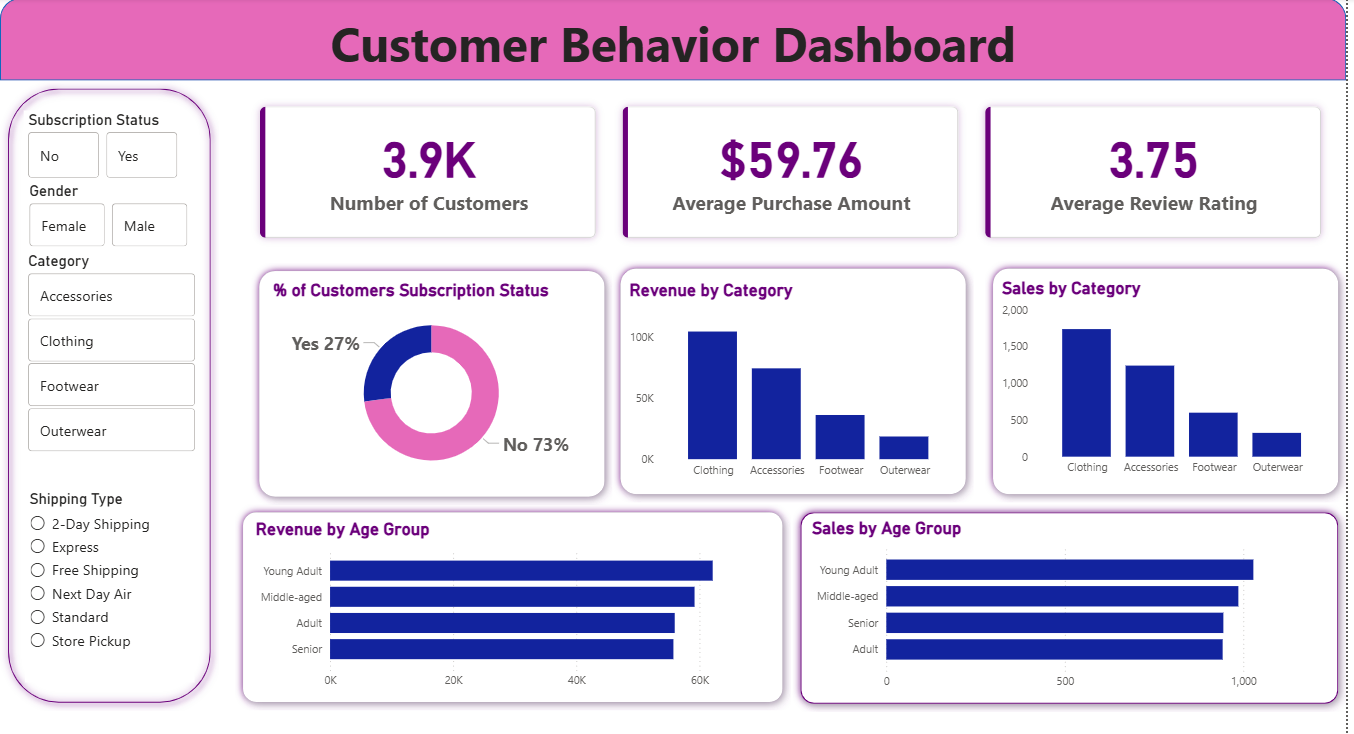

What the dashboard file says about the page in this screenshot:
{"tool":"powerbi","page":{"name":"Page 1","canvas":[1500,820],"ordinal":0},"visuals":[{"type":"cardVisual","fields":{"Data":["customer_behavior customer.Number of Customers","customer_behavior customer.Average Purchase Amount","customer_behavior customer.Average Review Rating"]},"box":[262.2,93.1,1238.1,202],"z":0},{"type":"shape","box":[0,0,1499.9,91.9],"z":1000},{"type":"textbox","box":[0,8.4,1499.9,83.6],"z":2000},{"type":"shape","box":[279.4,295.2,402.7,269.4],"z":3000},{"type":"donutChart","title":"% of Customers Subscription Status","fields":{"Category":["customer_behavior customer.subscription_status"],"Series":["customer_behavior customer.subscription_status"],"Y":["CountNonNull(customer_behavior customer.customer_id)"]},"box":[299.5,315.2,362.5,229.3],"z":4000},{"type":"shape","box":[682.1,292.3,402.7,269.4],"z":5000},{"type":"shape","box":[1097.6,292.3,402.7,269.4],"z":6000},{"type":"clusteredColumnChart","title":"Revenue by Category","fields":{"Y":["Sum(customer_behavior customer.purchase_amount)"],"Category":["customer_behavior customer.category"]},"box":[696.4,315.2,374,229.3],"z":7000},{"type":"clusteredColumnChart","title":"Sales by Category","fields":{"Y":["CountNonNull(customer_behavior customer.customer_id)"],"Category":["customer_behavior customer.category"]},"box":[1112,312.4,374,229.3],"z":8000},{"type":"shape","box":[0,91.7,243.6,702.1],"z":9000},{"type":"advancedSlicerVisual","fields":{"Values":["customer_behavior customer.subscription_status"]},"box":[25.8,124.7,177.7,80.2],"z":10000},{"type":"advancedSlicerVisual","fields":{"Values":["customer_behavior customer.gender"]},"box":[27.2,204.9,187.7,77.4],"z":11000},{"type":"advancedSlicerVisual","fields":{"Values":["customer_behavior customer.category"]},"box":[25.8,282.3,196.3,227.8],"z":12000},{"type":"listSlicer","fields":{"Values":["customer_behavior customer.shipping_type"]},"box":[27.2,547.4,189.1,214.9],"z":13000},{"type":"shape","box":[262.2,564.6,619,229.3],"z":14000},{"type":"clusteredBarChart","title":"Revenue by Age Group","fields":{"Y":["Sum(customer_behavior customer.purchase_amount)"],"Category":["customer_behavior customer.age_group"]},"box":[279.4,580.3,583.2,197.7],"z":15000},{"type":"shape","box":[883,564,617,231.2],"z":16000},{"type":"clusteredBarChart","title":"Sales by Age Group","fields":{"Y":["CountNonNull(customer_behavior customer.customer_id)"],"Category":["customer_behavior customer.age_group"]},"box":[899.2,579.7,585.4,199.8],"z":17000}]}

Visuals, with their boxes in screenshot pixels (x1, y1, x2, y2), scaled from the page's 1500x820 canvas onto the 1354x734 screenshot:
cardVisual - customer_behavior customer.Number of Customers x customer_behavior customer.Average Purchase Amount: <bbox>237, 83, 1353, 264</bbox>
shape: <bbox>0, 0, 1353, 82</bbox>
textbox: <bbox>0, 8, 1353, 82</bbox>
shape: <bbox>252, 264, 616, 505</bbox>
"% of Customers Subscription Status" donutChart: <bbox>270, 282, 598, 487</bbox>
shape: <bbox>616, 262, 979, 503</bbox>
shape: <bbox>991, 262, 1353, 503</bbox>
"Revenue by Category" clusteredColumnChart: <bbox>629, 282, 966, 487</bbox>
"Sales by Category" clusteredColumnChart: <bbox>1004, 280, 1341, 485</bbox>
shape: <bbox>0, 82, 220, 711</bbox>
advancedSlicerVisual - customer_behavior customer.subscription_status: <bbox>23, 112, 184, 183</bbox>
advancedSlicerVisual - customer_behavior customer.gender: <bbox>25, 183, 194, 253</bbox>
advancedSlicerVisual - customer_behavior customer.category: <bbox>23, 253, 200, 457</bbox>
listSlicer - customer_behavior customer.shipping_type: <bbox>25, 490, 195, 682</bbox>
shape: <bbox>237, 505, 795, 711</bbox>
"Revenue by Age Group" clusteredBarChart: <bbox>252, 519, 779, 696</bbox>
shape: <bbox>797, 505, 1353, 712</bbox>
"Sales by Age Group" clusteredBarChart: <bbox>812, 519, 1340, 698</bbox>
